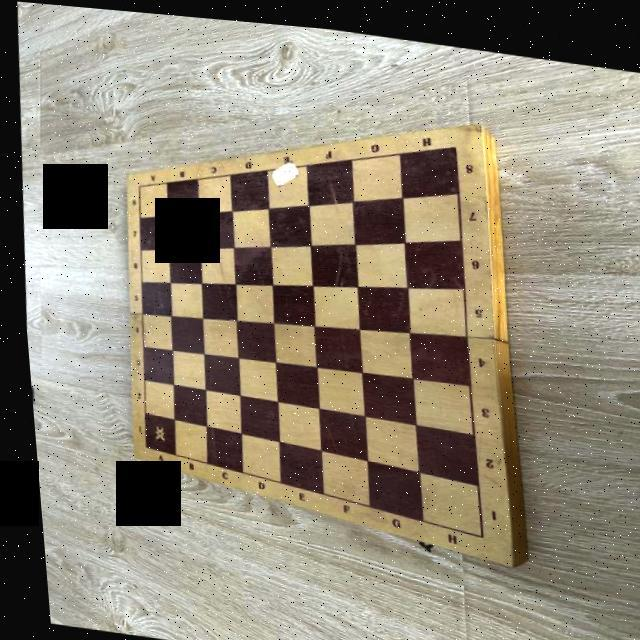chess-table-corners: (130, 180, 140, 188), (447, 136, 456, 144), (469, 526, 476, 532), (136, 442, 140, 447)
